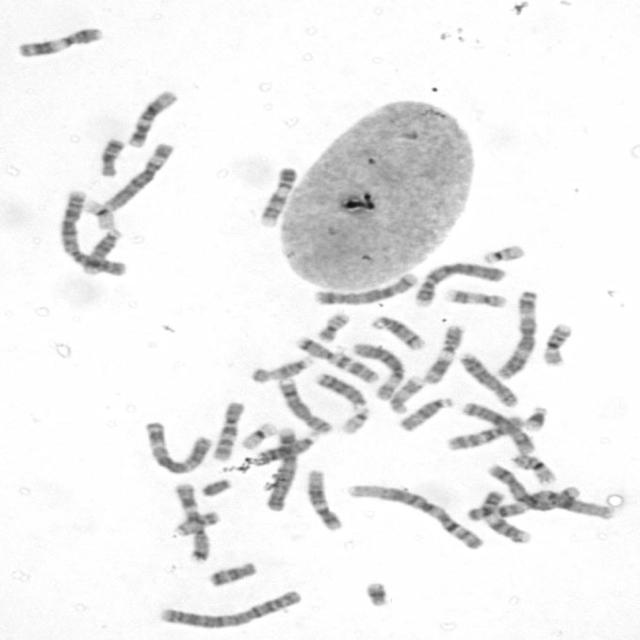A1: (344, 482, 485, 550), (467, 489, 618, 522)
A2: (59, 189, 131, 279), (158, 588, 304, 630)
A3: (496, 287, 538, 381), (143, 422, 213, 474)
B4: (411, 261, 507, 307), (263, 426, 299, 513)
B5: (484, 464, 582, 513), (313, 271, 418, 309)
C10: (447, 415, 525, 451), (213, 401, 246, 462)
C11: (17, 26, 106, 58), (423, 323, 467, 384)
C12: (126, 88, 179, 149), (305, 469, 343, 531)
C6: (102, 142, 173, 214), (349, 342, 405, 402)
C7: (293, 336, 382, 384), (174, 482, 212, 562)
C8: (461, 352, 520, 409), (278, 378, 333, 434)
C9: (478, 491, 533, 544), (259, 166, 297, 226)
D13: (258, 429, 320, 466), (312, 372, 369, 410)
D14: (80, 228, 124, 276), (371, 316, 428, 352)
D15: (398, 396, 454, 431), (251, 355, 314, 384)
E16: (511, 453, 560, 487), (541, 321, 575, 367)
E17: (387, 373, 426, 417), (444, 288, 508, 310)
E18: (207, 562, 260, 587), (100, 138, 124, 177)
F19: (240, 421, 278, 452), (84, 198, 118, 231)
F20: (174, 509, 220, 538), (314, 311, 352, 345)
G21: (358, 580, 395, 608), (522, 405, 552, 434)
G22: (481, 244, 528, 265), (340, 407, 372, 434)
X: (459, 401, 536, 455)
Y: (200, 478, 233, 498)
